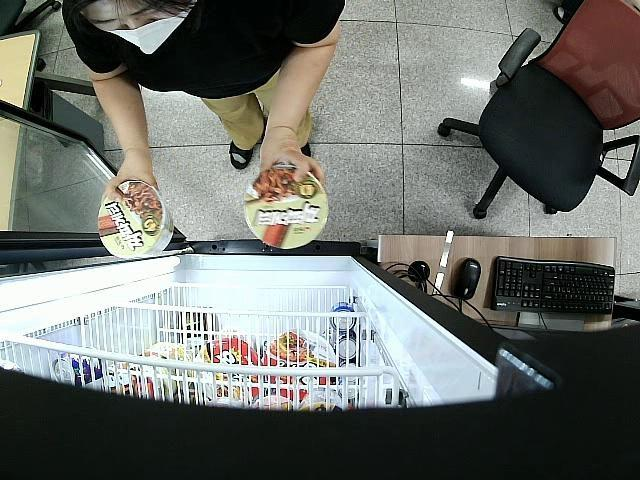03_chapagetti_L: (244, 164, 328, 251), (99, 182, 174, 260)
